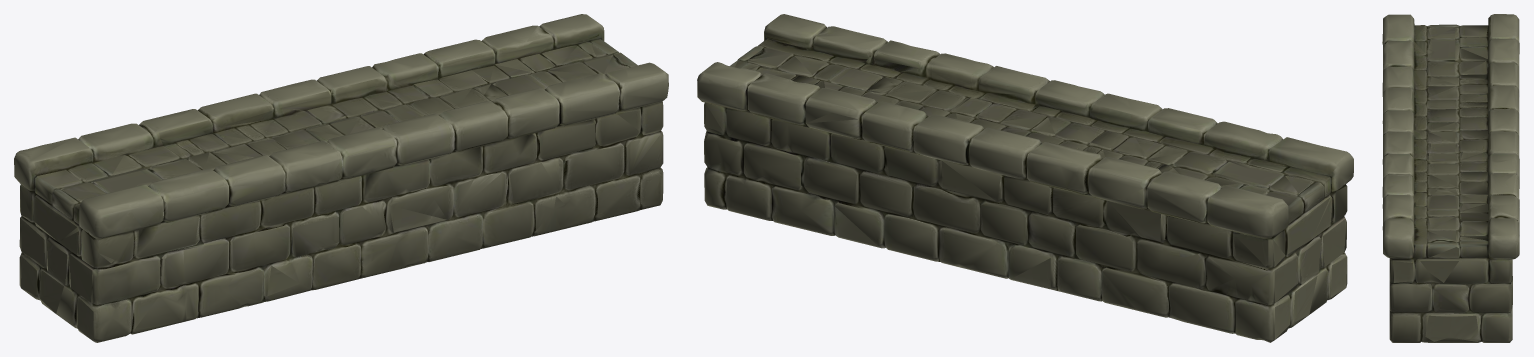
File: ruined-wall.glb
3 views of the same model, side by side, from view 1: azimuth 30°, elevation 25°; view 2: azimuth 150°, elevation 25°; view 3: azimuth 270°, elevation 25° (orthographic). The views are drawn at different scales.
Visible parts, largest first — view 1: tripo_node_8a6d83cf-5495-4d5c-8e4a-8a375ae0740a; view 2: tripo_node_8a6d83cf-5495-4d5c-8e4a-8a375ae0740a; view 3: tripo_node_8a6d83cf-5495-4d5c-8e4a-8a375ae0740a.
Part boxes in pixels (left/top/right/bottom): tripo_node_8a6d83cf-5495-4d5c-8e4a-8a375ae0740a: left=14, top=14, right=668, bottom=342; tripo_node_8a6d83cf-5495-4d5c-8e4a-8a375ae0740a: left=697, top=14, right=1353, bottom=342; tripo_node_8a6d83cf-5495-4d5c-8e4a-8a375ae0740a: left=1382, top=14, right=1519, bottom=342.
Bounding box in the file's own units: 0.9793 × 0.2215 × 0.253.
1 material, 1 textured.
